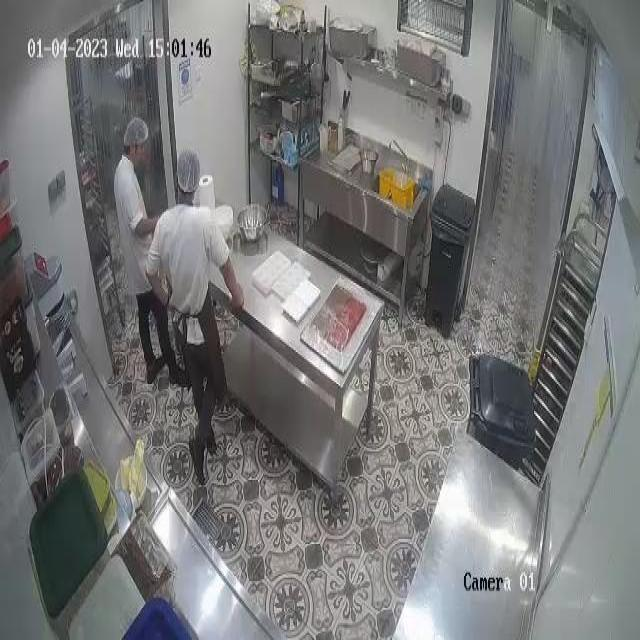hairnet: (178, 148, 199, 194), (123, 119, 148, 144)
